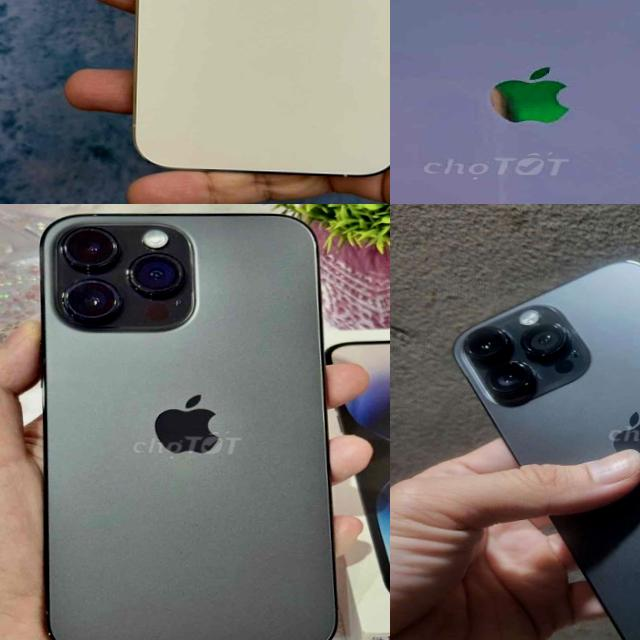gen_12_13: (390, 0, 640, 204), (132, 0, 390, 185)
gen_14: (18, 204, 360, 640), (439, 250, 640, 640)
